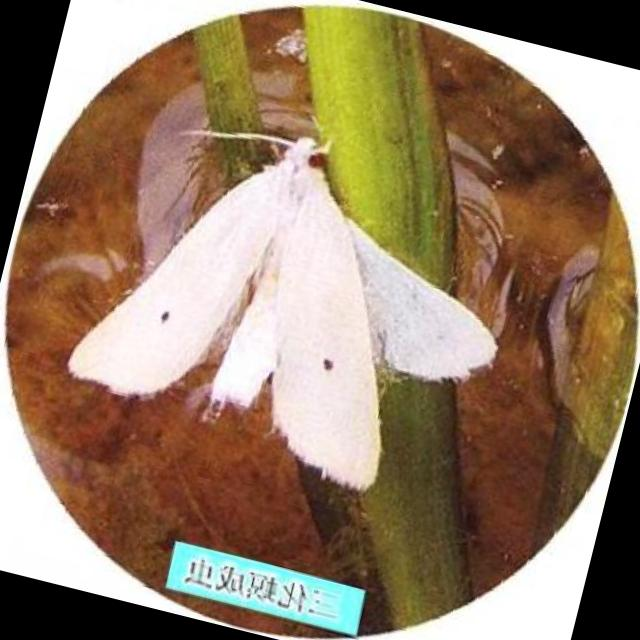stem-borer: (67, 128, 501, 490)
